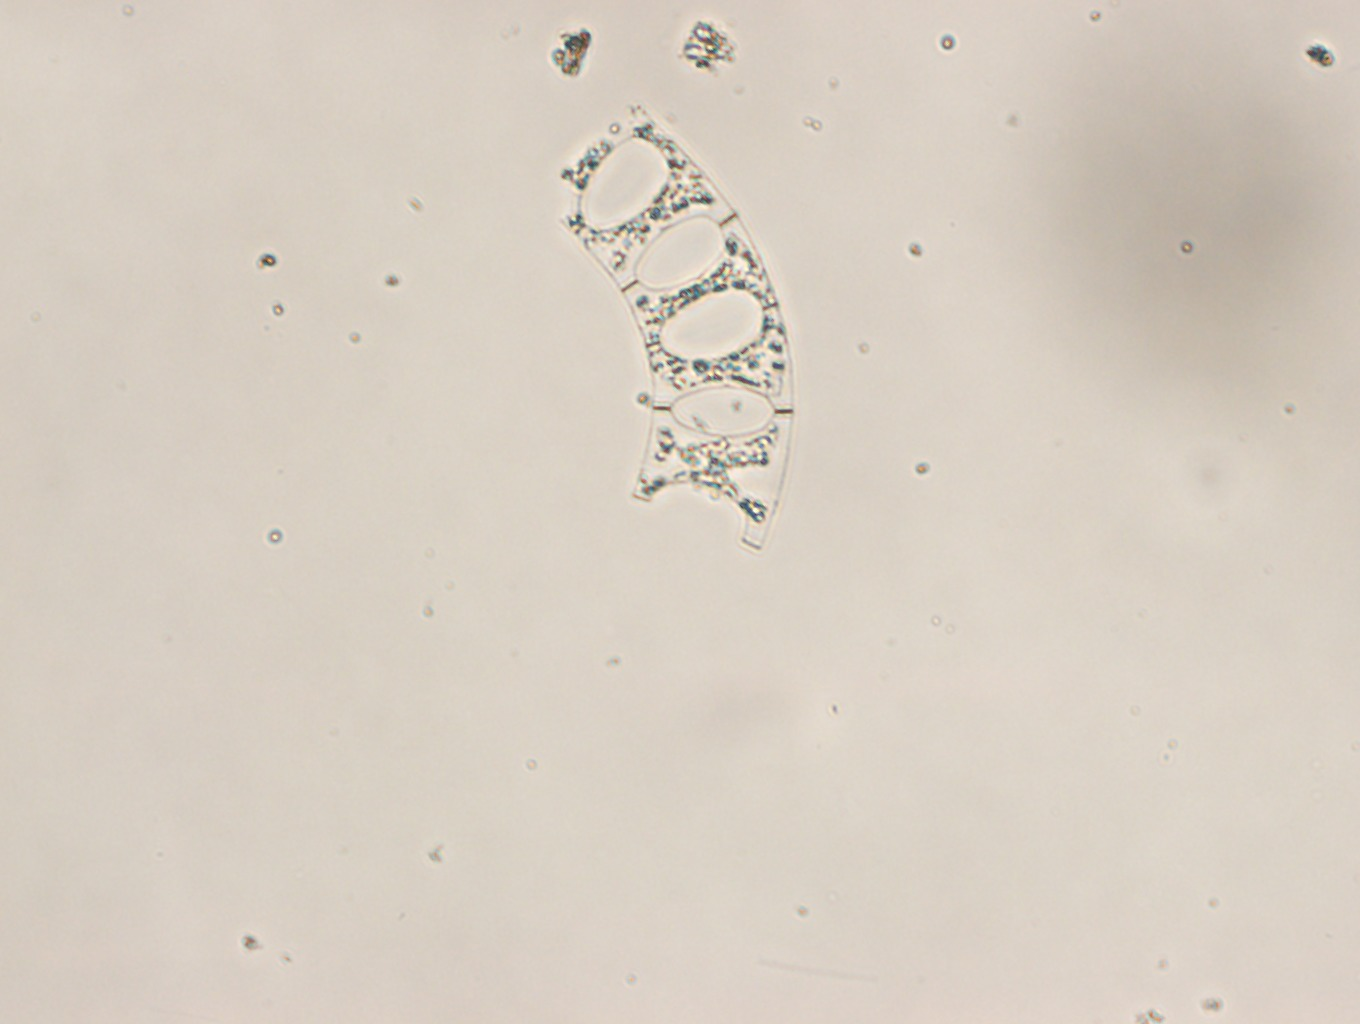eucampia: (559, 103, 794, 553)
